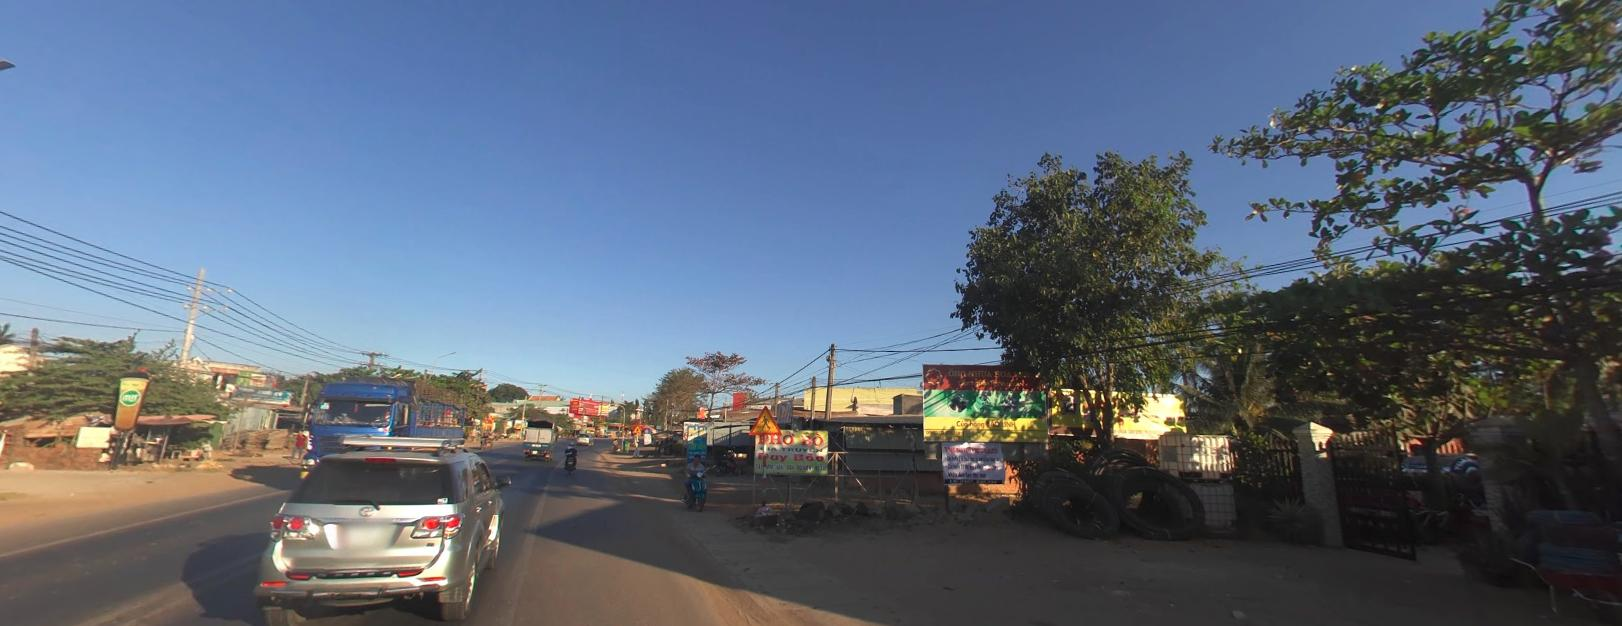Nguy hiem: (748, 403, 783, 435), (631, 424, 641, 432)
